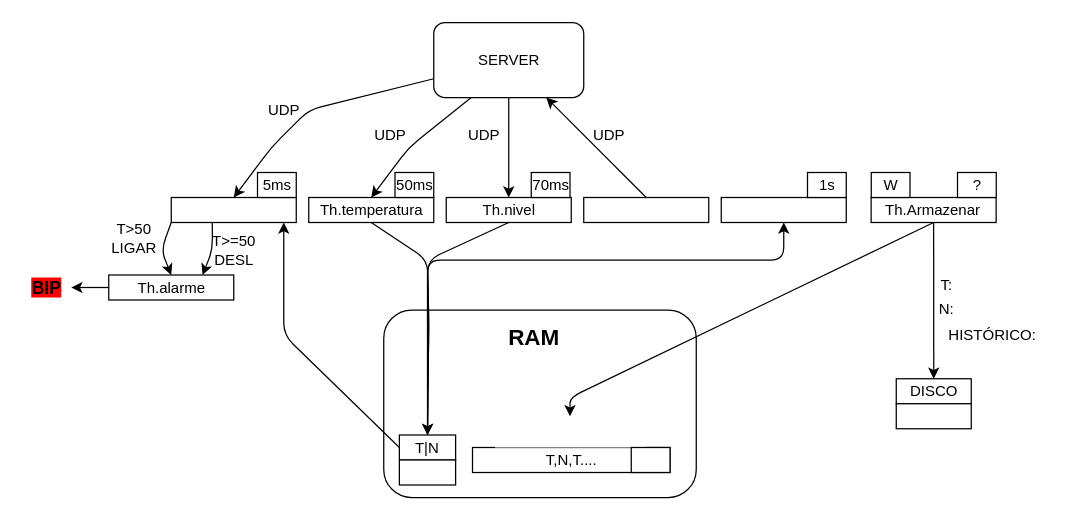
Image size: 1068x519. Some labels were removed from this diagram. The shapes that lost their labels are listed below. From the top down, each one's centre as x and y in pixels, then its label:
At [233,209]: "Th.temp_alarme".
At [645,209]: "Th.Envia".
At [783,209]: "Th.Tela".
At [569,431]: "FILA_DE_ESCRITA".
At [933,415]: "CSV".
At [427,472]: "MT|MN".
At [650,459]: "MF".
